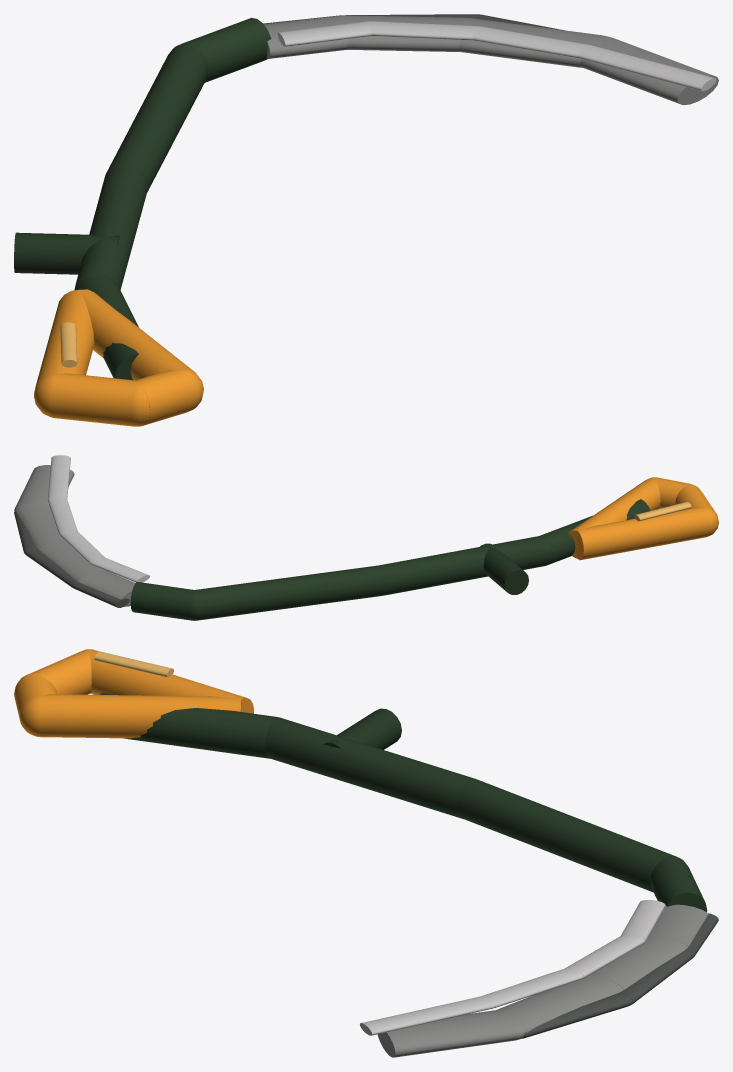
Rendered from CMU3DFieldHydroponicsToolScytheCloud.glb.
3 views of the same model, one above another, from view 1: azimuth 30°, elevation 25°; view 2: azimuth 150°, elevation 25°; view 3: azimuth 270°, elevation 25° (orthographic). The views are drawn at different scales.
Visible parts, largest first — view 1: bent green scythe shaft span 3, bent green scythe shaft span 2, yellow lower handle outer span 2, yellow lower handle outer span 4, bent green scythe shaft span 4, short green side grip, swept scythe blade back span 4, yellow lower handle outer span 1, swept scythe blade back span 3, swept scythe blade back span 2, bright continuous curved edge span 4, yellow lower handle outer span 3 (+6 smaller); view 2: bent green scythe shaft span 3, bent green scythe shaft span 2, yellow lower handle outer span 1, bent green scythe shaft span 4, yellow lower handle outer span 4, short green side grip, swept scythe blade back span 3, bent green scythe shaft span 1, swept scythe blade back span 2, swept scythe blade back span 1, swept scythe blade back span 4, bright continuous curved edge span 4 (+9 smaller); view 3: bent green scythe shaft span 3, bent green scythe shaft span 2, yellow lower handle outer span 4, bent green scythe shaft span 1, swept scythe blade back span 4, yellow lower handle outer span 1, swept scythe blade back span 3, swept scythe blade back span 2, bent green scythe shaft span 4, bright continuous curved edge span 4, short green side grip, yellow lower handle outer span 2 (+9 smaller).
Part boxes in pixels (x1=…): bent green scythe shaft span 3: x1=105, y1=44, x2=208, y2=192; bent green scythe shaft span 2: x1=74, y1=163, x2=148, y2=289; yellow lower handle outer span 2: x1=51, y1=373, x2=136, y2=426; yellow lower handle outer span 4: x1=80, y1=289, x2=195, y2=380; bent green scythe shaft span 4: x1=183, y1=17, x2=271, y2=82; short green side grip: x1=14, y1=232, x2=119, y2=274; swept scythe blade back span 4: x1=580, y1=37, x2=718, y2=105; yellow lower handle outer span 1: x1=34, y1=289, x2=94, y2=394; swept scythe blade back span 3: x1=459, y1=18, x2=601, y2=67; swept scythe blade back span 2: x1=344, y1=15, x2=465, y2=51; bright continuous curved edge span 4: x1=578, y1=45, x2=716, y2=91; yellow lower handle outer span 3: x1=135, y1=369, x2=194, y2=425; bent green scythe shaft span 3: x1=194, y1=565, x2=385, y2=620; bent green scythe shaft span 2: x1=379, y1=536, x2=548, y2=595; yellow lower handle outer span 1: x1=577, y1=507, x2=709, y2=560; bent green scythe shaft span 4: x1=130, y1=582, x2=194, y2=620; yellow lower handle outer span 4: x1=568, y1=478, x2=660, y2=558; short green side grip: x1=480, y1=543, x2=528, y2=594; swept scythe blade back span 3: x1=15, y1=503, x2=65, y2=547; bent green scythe shaft span 1: x1=540, y1=499, x2=650, y2=564; swept scythe blade back span 2: x1=39, y1=541, x2=107, y2=580; swept scythe blade back span 1: x1=80, y1=570, x2=135, y2=606; swept scythe blade back span 4: x1=15, y1=465, x2=74, y2=507; bright continuous curved edge span 4: x1=47, y1=455, x2=70, y2=499; bent green scythe shaft span 3: x1=457, y1=779, x2=674, y2=892; bent green scythe shaft span 2: x1=265, y1=717, x2=475, y2=819; yellow lower handle outer span 4: x1=40, y1=694, x2=241, y2=738; bent green scythe shaft span 1: x1=99, y1=692, x2=276, y2=758; swept scythe blade back span 4: x1=377, y1=1010, x2=516, y2=1057; yellow lower handle outer span 1: x1=89, y1=650, x2=253, y2=713; swept scythe blade back span 3: x1=497, y1=975, x2=619, y2=1032; swept scythe blade back span 2: x1=590, y1=936, x2=684, y2=989; bent green scythe shaft span 4: x1=650, y1=857, x2=707, y2=912; bright continuous curved edge span 4: x1=360, y1=996, x2=493, y2=1035; short green side grip: x1=323, y1=708, x2=401, y2=749; yellow lower handle outer span 2: x1=30, y1=650, x2=91, y2=694.
Bounding box in the file's own units: 0.8474 × 0.0504 × 0.6533.
